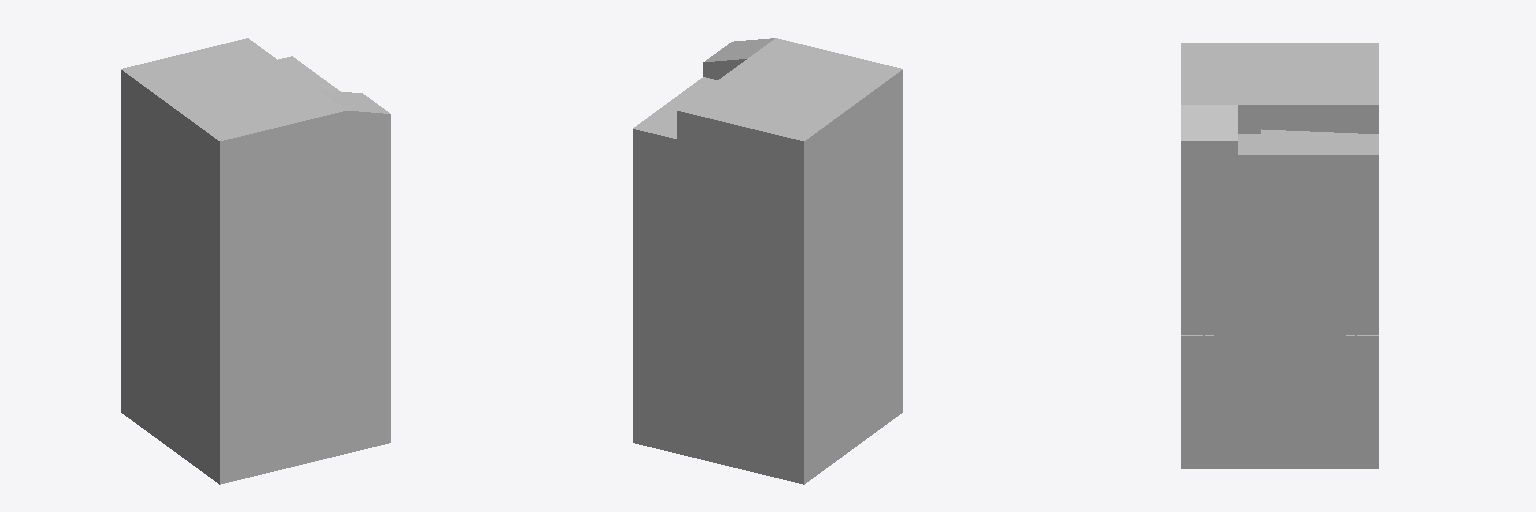
File: PrinterCentered.obj
3 renders of one model, left to right at view 1: azimuth 30°, elevation 25°; view 2: azimuth 150°, elevation 25°; view 3: azimuth 270°, elevation 25°, orthographic.
Size of the model in its own units: 2 by 3.82 by 2.